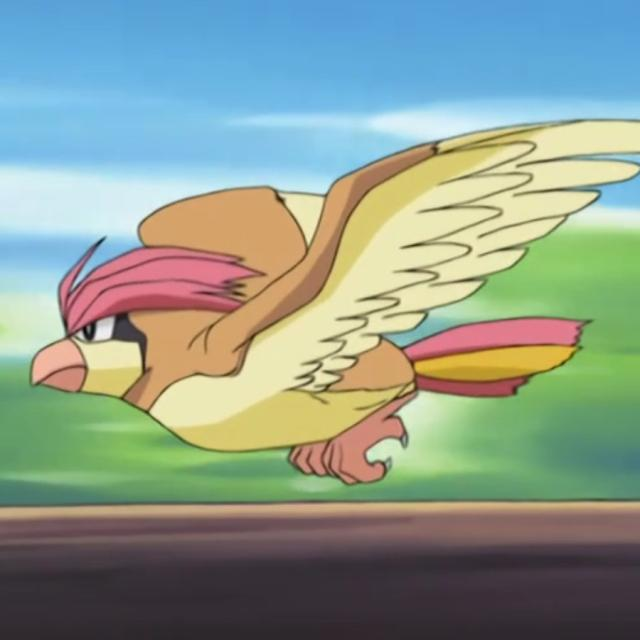Pidgeotto: (29, 161, 536, 486)
